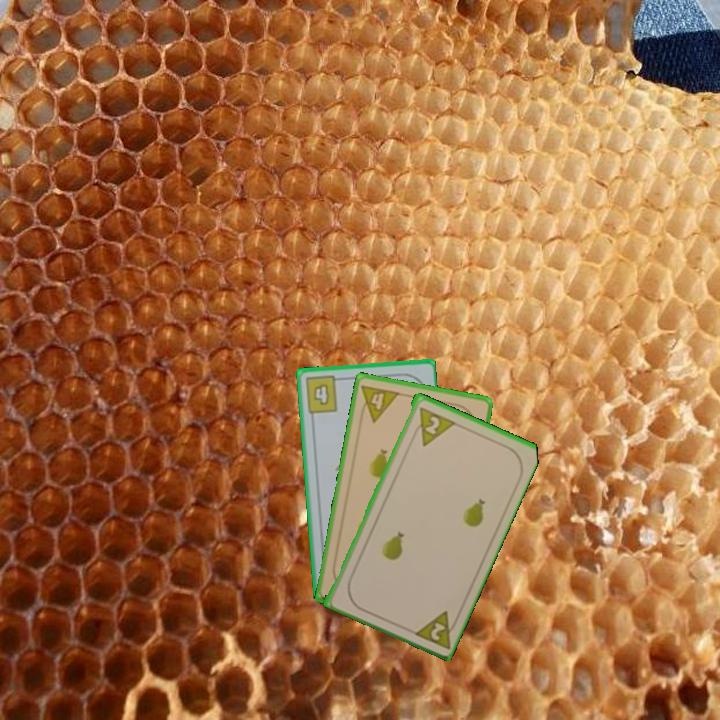2p: (408, 606, 462, 651), (421, 412, 443, 437)
4b: (301, 372, 345, 416)
4p: (356, 381, 402, 425)
